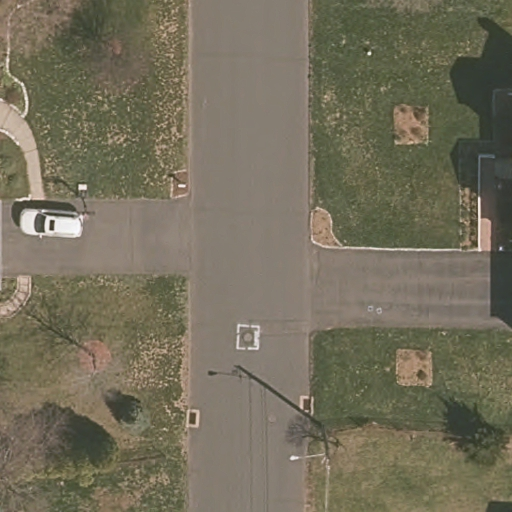DT: (316, 448, 337, 470)
